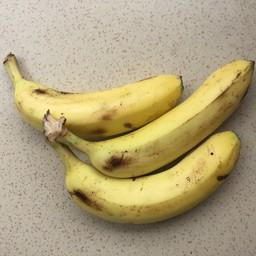Good_banana: (48, 65, 252, 158), (38, 152, 244, 229), (3, 61, 188, 140)
